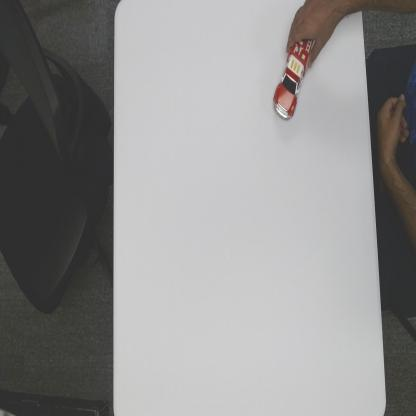Firetruck: (270, 39, 308, 126)
Hand: (285, 0, 337, 72)
